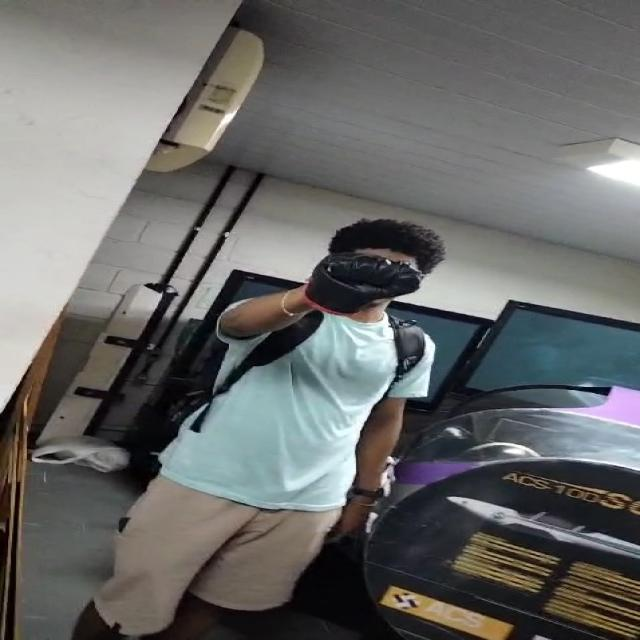Gloves: (304, 254, 425, 315)
